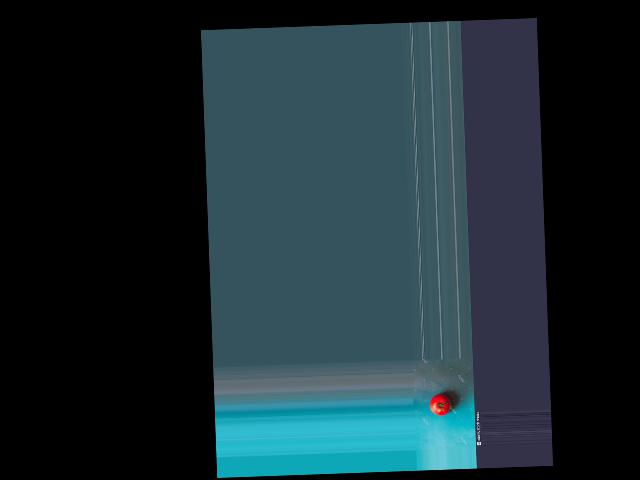tomato: (429, 393, 452, 415)
